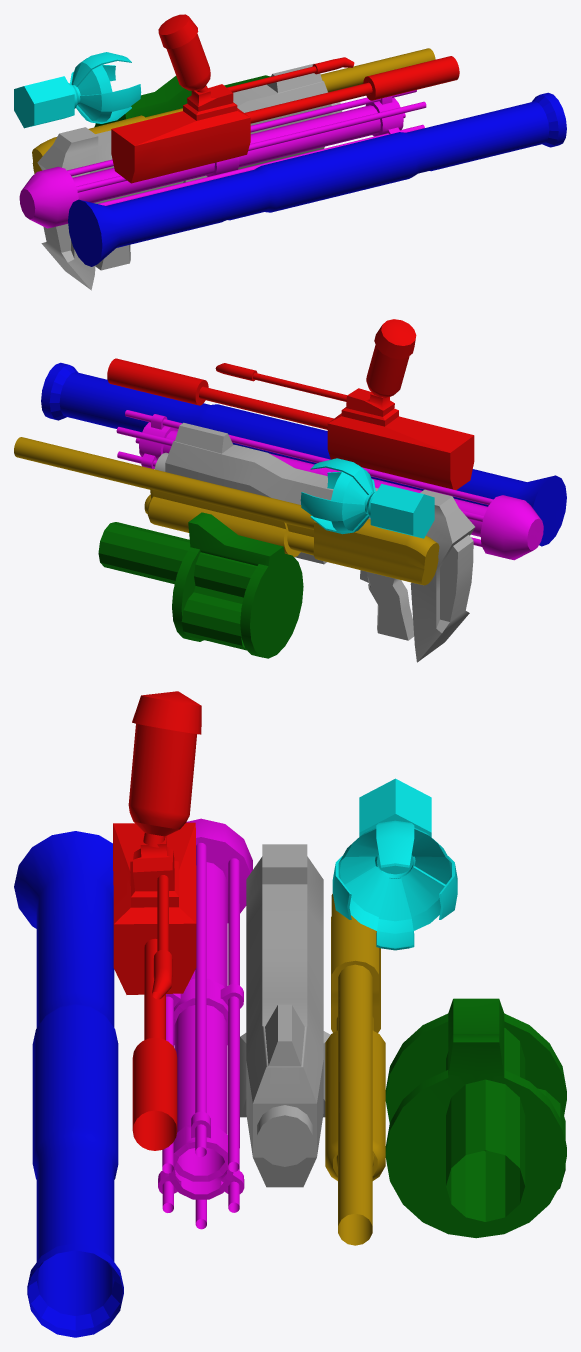
Rendered from BaseGunOP1.fbx.
The picture shows the model from 3 angles, top to bottom: view 1: azimuth 30°, elevation 25°; view 2: azimuth 150°, elevation 25°; view 3: azimuth 270°, elevation 25°; orthographic projection. The views are drawn at different scales.
Visible parts, largest first — view 1: Bazooka1, pCylinder2, ChainBase1, BaseGun, ChainRail1, pCone1, ShottyV2, pCylinder3, GrenadeFrame1; view 2: pCylinder2, BaseGun, ShottyV2, Bazooka1, GrenadeFrame1, GrenadeRev1, ChainBase1, GrenadeNozz1, ChainRail1, pCone1, pCylinder3; view 3: Bazooka1, pCylinder2, BaseGun, GrenadeFrame1, ShottyV2, ChainRail1, pCone1, ChainBase1, GrenadeNozz1, pCylinder3, GrenadeRev1.
Boxes of the visible parts, x1,y1,x2,y2 form: Bazooka1: [68, 92, 566, 266]; pCylinder2: [111, 14, 459, 183]; ChainBase1: [19, 105, 380, 228]; BaseGun: [37, 63, 342, 290]; ChainRail1: [67, 90, 426, 205]; pCone1: [68, 52, 141, 123]; ShottyV2: [32, 48, 435, 173]; pCylinder3: [14, 76, 74, 128]; GrenadeFrame1: [94, 76, 191, 127]; pCylinder2: [107, 319, 474, 489]; BaseGun: [154, 422, 474, 662]; ShottyV2: [14, 437, 439, 585]; Bazooka1: [41, 362, 566, 546]; GrenadeFrame1: [172, 512, 303, 658]; GrenadeRev1: [181, 552, 256, 650]; ChainBase1: [163, 430, 543, 560]; GrenadeNozz1: [98, 522, 190, 584]; ChainRail1: [116, 410, 493, 546]; pCone1: [300, 458, 376, 534]; pCylinder3: [370, 484, 434, 538]; Bazooka1: [14, 831, 123, 1337]; pCylinder2: [113, 691, 201, 1150]; BaseGun: [240, 844, 330, 1187]; GrenadeFrame1: [385, 998, 566, 1238]; ShottyV2: [325, 893, 385, 1245]; ChainRail1: [158, 843, 244, 1229]; pCone1: [332, 820, 457, 950]; ChainBase1: [174, 818, 252, 1175]; GrenadeNozz1: [446, 1079, 525, 1221]; pCylinder3: [359, 778, 431, 874]; GrenadeRev1: [446, 1028, 565, 1190].
Bounding box in the file's own units: 157 × 83.11 × 86.16.
